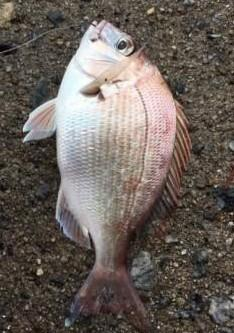fish: (23, 19, 192, 332)
